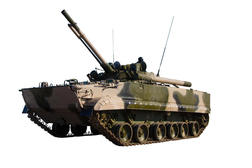bmp: (18, 1, 212, 144)
